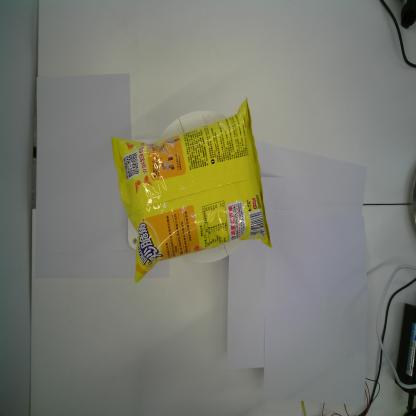Puffed Food: (111, 96, 273, 284)
